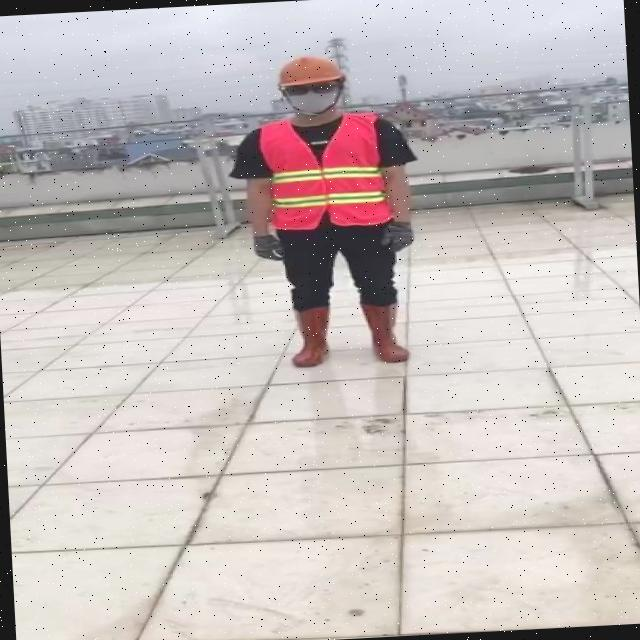boots: (362, 302, 413, 366), (289, 304, 333, 370)
helmet: (270, 52, 347, 89)
vest: (258, 113, 396, 232)
